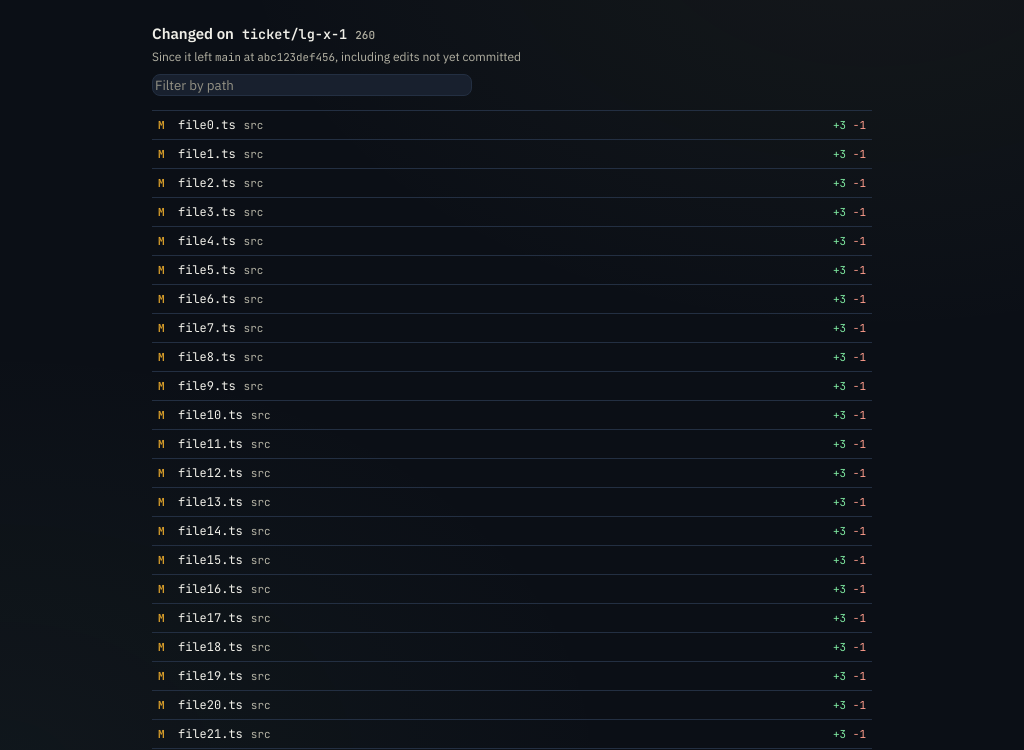
Test: EditorStartPane › adds a filter past fifty files and counts what the cap left out
Type "file5" into the field named "Filter changed files". click: (312, 85)
box: [152, 74, 472, 96]
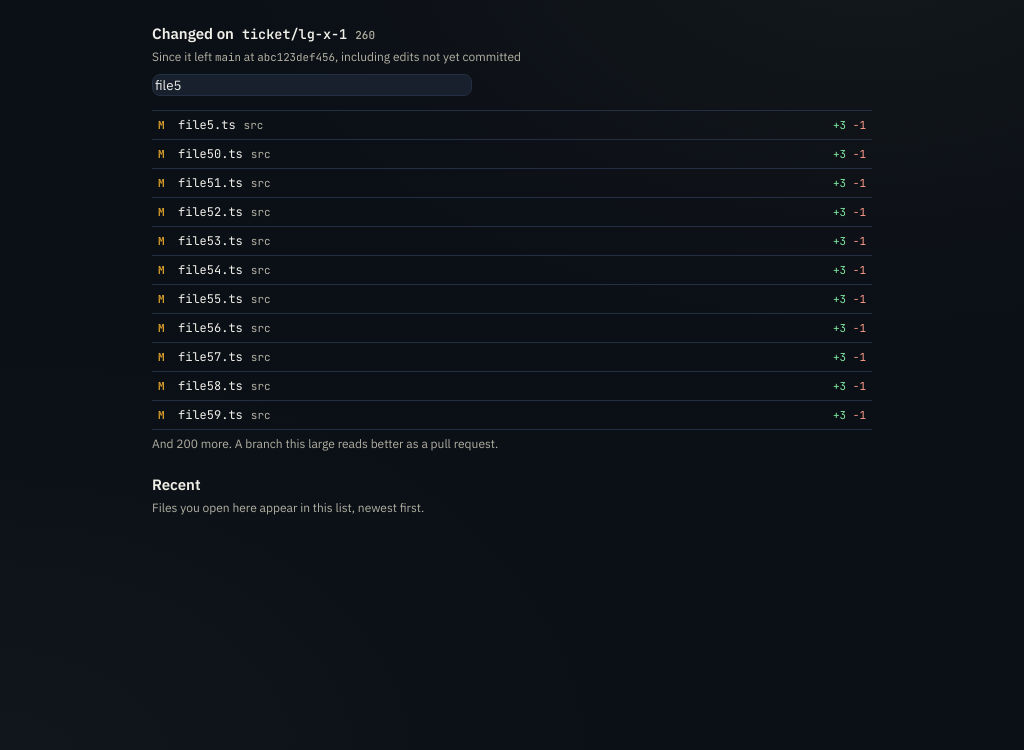
Expected: the text "And 200 more" is shown, [152, 436, 498, 451]
Now the number of buttons "M file5.ts src +3 −1" is 11
